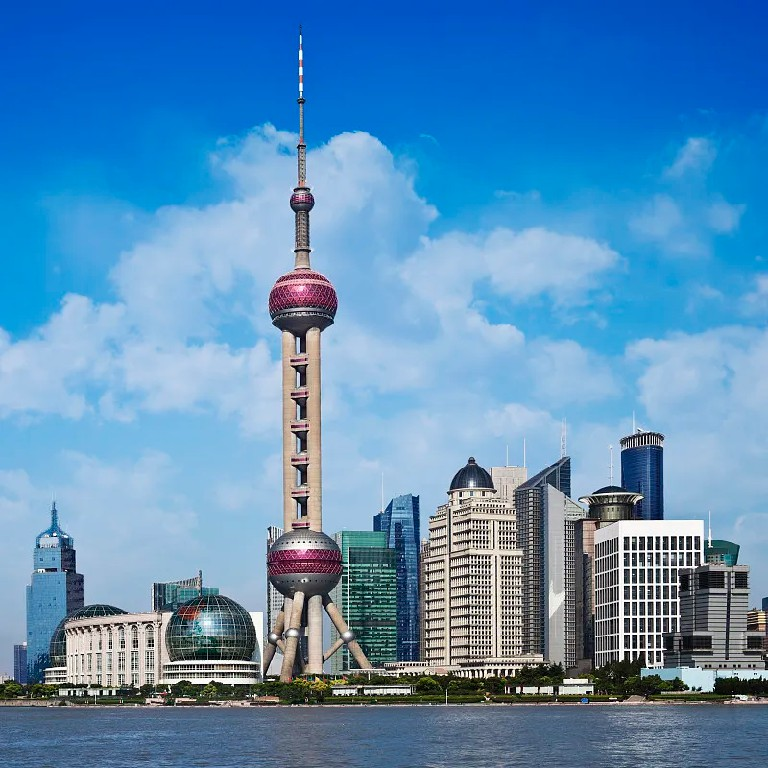Oriental: (265, 24, 370, 675)
